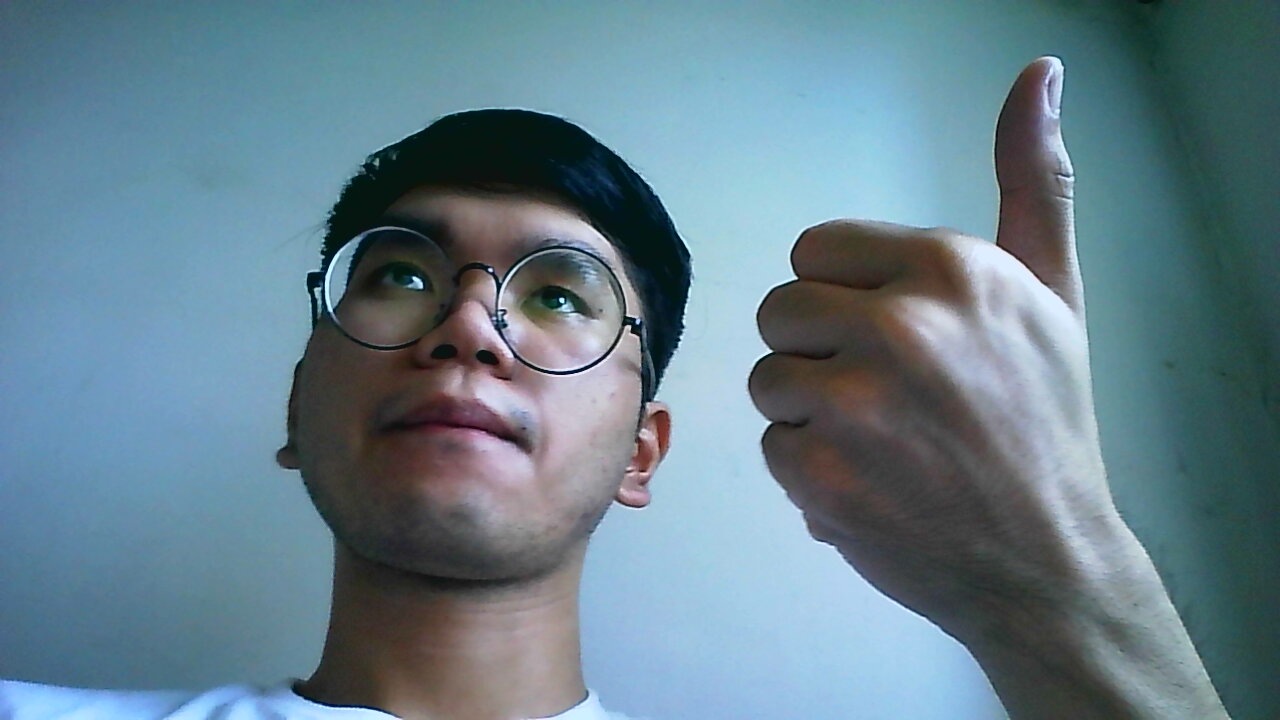thumbs: (744, 53, 1135, 624)
